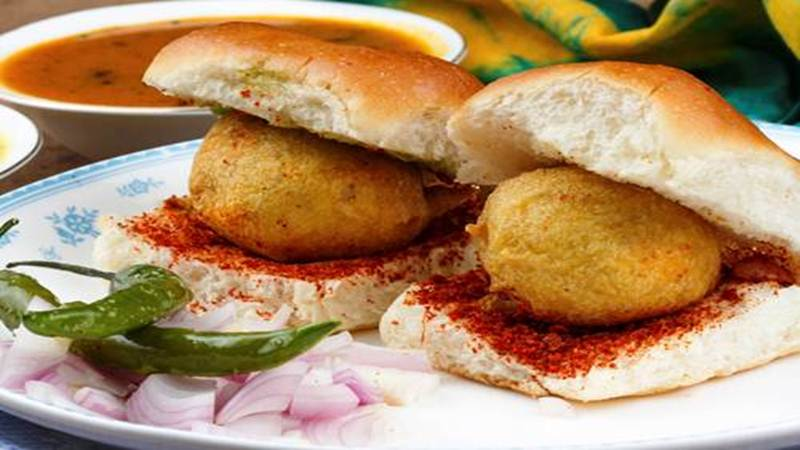vada pav: (454, 59, 759, 378), (108, 21, 458, 280)
